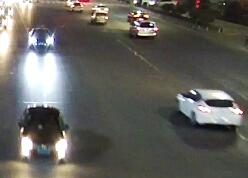car: (16, 105, 69, 161), (174, 87, 241, 127), (25, 25, 56, 49), (128, 18, 157, 36), (127, 8, 149, 24), (89, 9, 108, 24), (71, 0, 84, 12)
